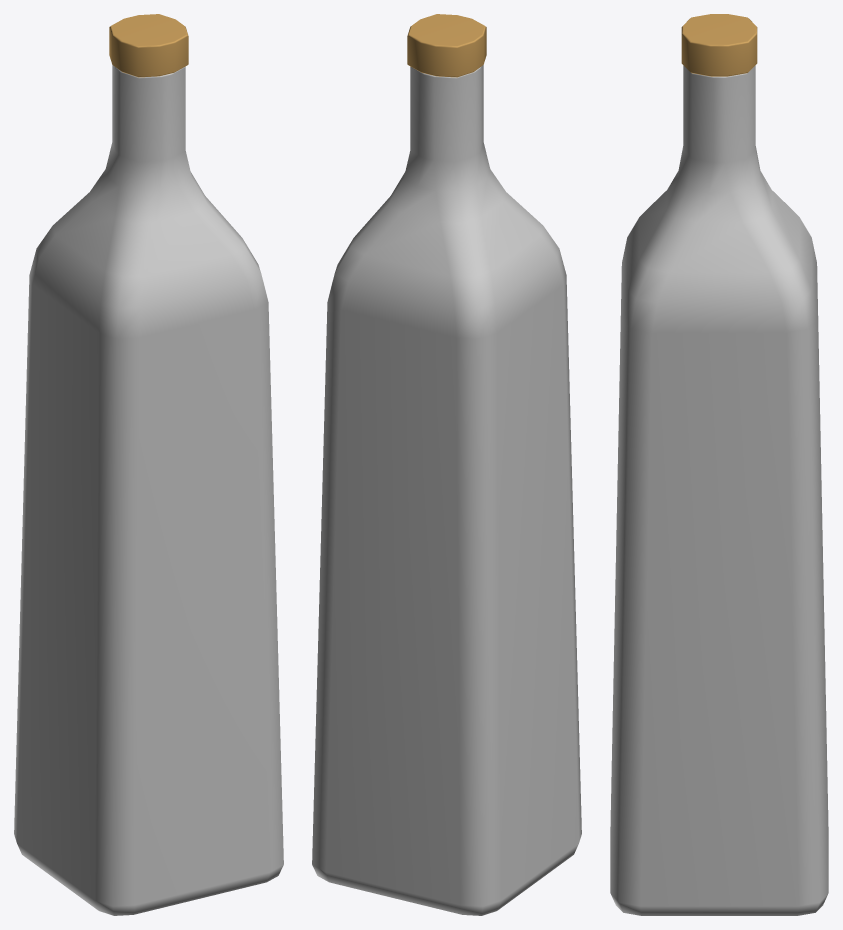
Rendered from Olive Oil.FBX.
3 views of the same model, side by side, from view 1: azimuth 30°, elevation 25°; view 2: azimuth 150°, elevation 25°; view 3: azimuth 270°, elevation 25° (orthographic).
Parts seen in each view (by area): view 1: Olive Oil; view 2: Olive Oil; view 3: Olive Oil.
Boxes of the visible parts, left/top/right/bottom form: Olive Oil: left=14, top=14, right=283, bottom=915; Olive Oil: left=312, top=14, right=581, bottom=915; Olive Oil: left=610, top=14, right=828, bottom=915.
Bounding box in the file's own units: 6.96 × 29.86 × 6.96.
